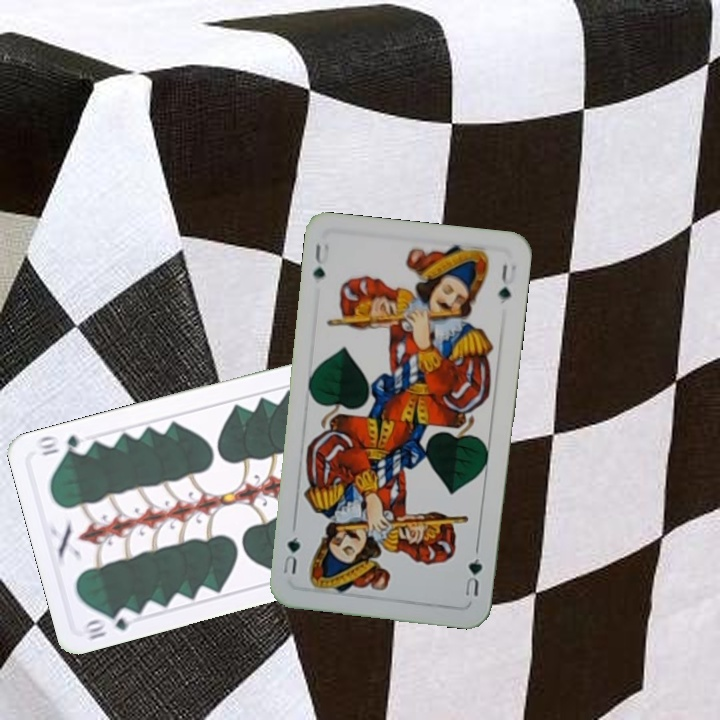G10: (80, 604, 139, 643)
GU: (461, 544, 485, 599), (308, 238, 332, 282)
